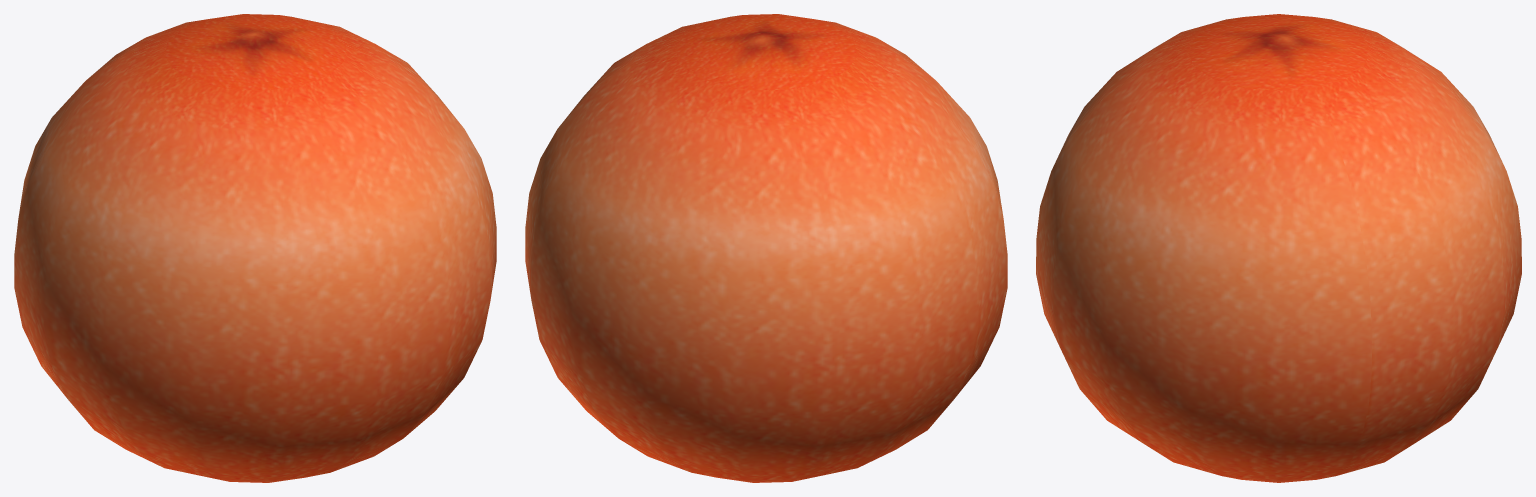
Rendered from Grapefruit_Whole.fbx.
The picture shows the model from 3 angles, left to right: view 1: azimuth 30°, elevation 25°; view 2: azimuth 150°, elevation 25°; view 3: azimuth 270°, elevation 25°; orthographic projection.
Parts seen in each view (by area): view 1: Grapefruit_Whole; view 2: Grapefruit_Whole; view 3: Grapefruit_Whole.
Part boxes in pixels (x1,y1,x2,y2): Grapefruit_Whole: (14, 14, 496, 482); Grapefruit_Whole: (525, 14, 1007, 482); Grapefruit_Whole: (1036, 14, 1521, 482).
Size of the model in its own units: 45.49 by 43.83 by 45.49.
Materials: 1 (1 with a texture image).
